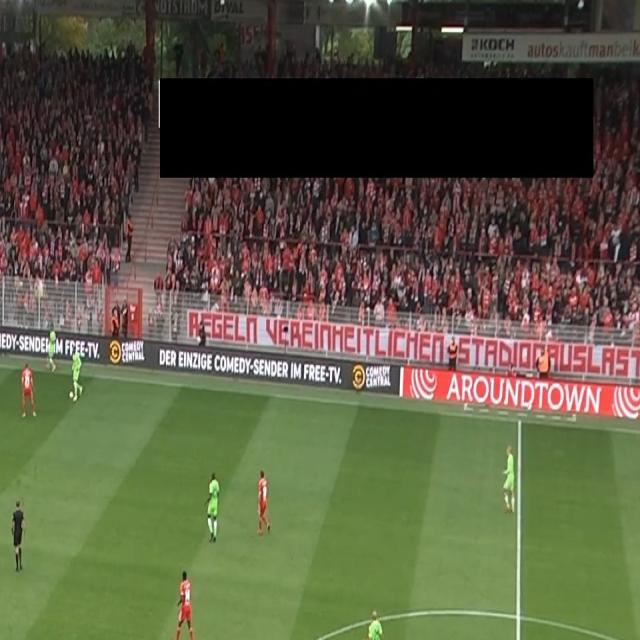ball: (67, 390, 75, 402)
